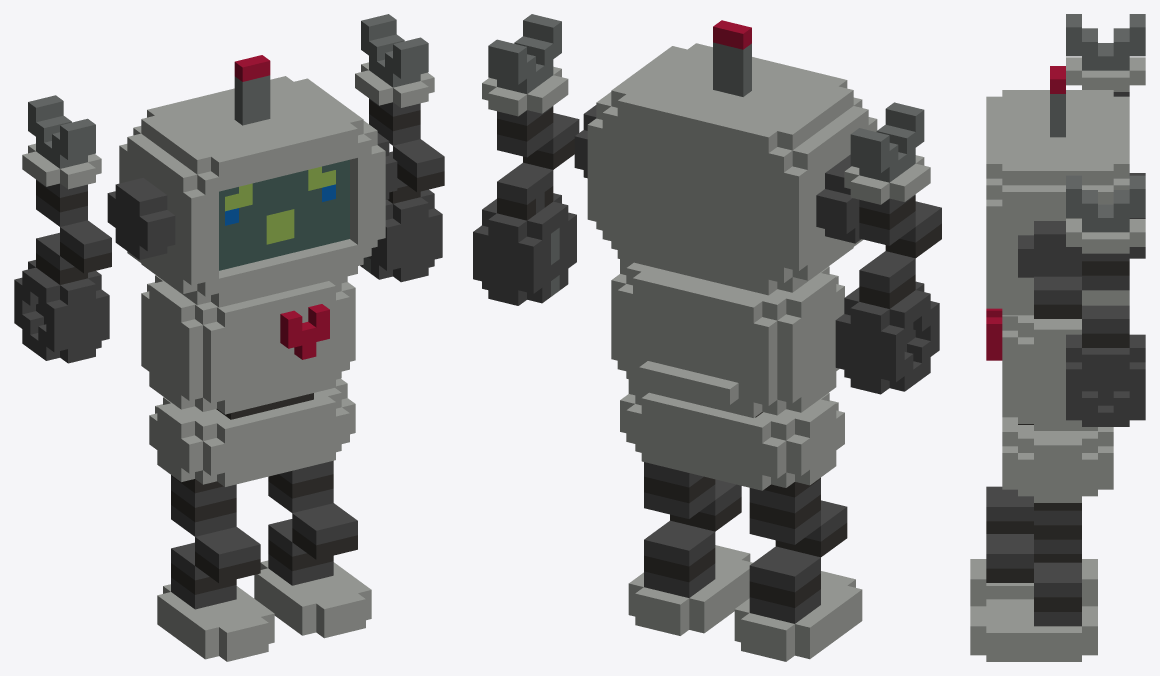
The model's file is player_main_death_1.fbx.
3 views of the same model, side by side, from view 1: azimuth 30°, elevation 25°; view 2: azimuth 150°, elevation 25°; view 3: azimuth 270°, elevation 25° (orthographic). The views are drawn at different scales.
Visible parts, largest first — view 1: model_4; view 2: model_4; view 3: model_4.
Part boxes in pixels (box(x1,y1,x2,y2)): model_4: box(14, 14, 444, 661); model_4: box(473, 14, 941, 661); model_4: box(970, 14, 1145, 661).
Bounding box in the file's own units: 280 × 110 × 380.
